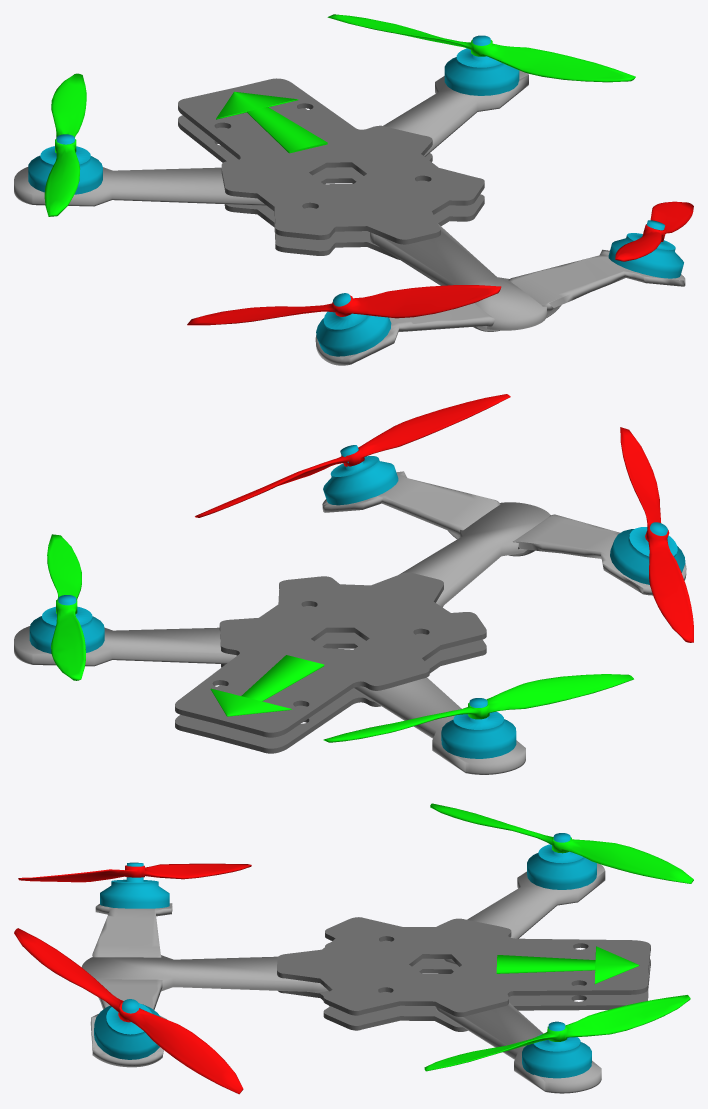
The model's file is quad_atail.gltf.
3 views of the same model, one above another, from view 1: azimuth 30°, elevation 25°; view 2: azimuth 150°, elevation 25°; view 3: azimuth 270°, elevation 25° (orthographic). The views are drawn at different scales.
Size of the model in its own units: 7.97 by 1.19 by 8.59.
